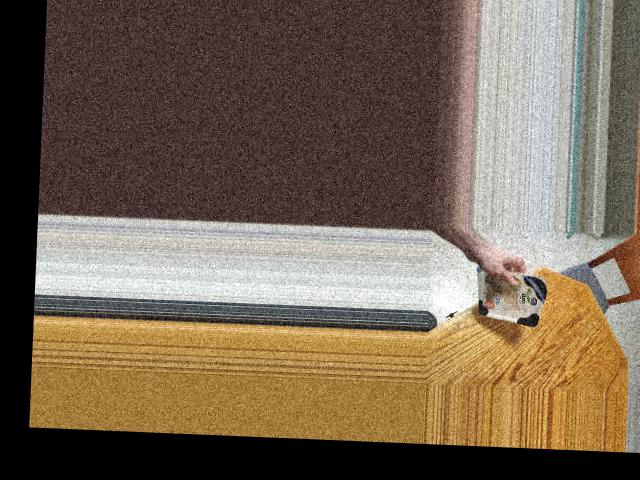cheese: (472, 261, 549, 327)
